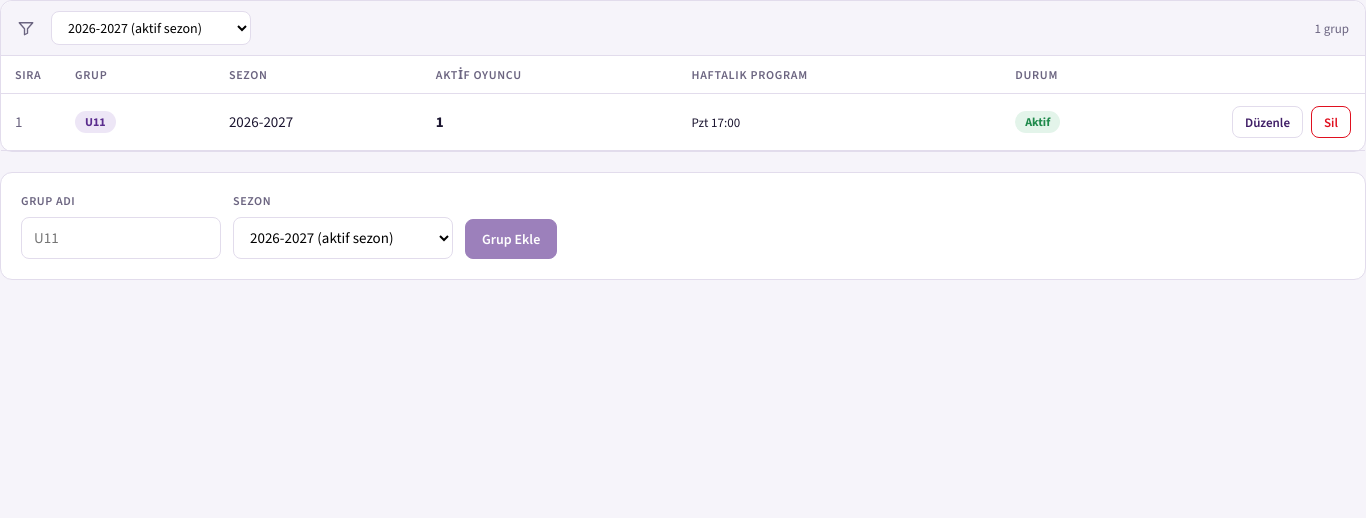
Test: Yaş Grupları ekranı › program editörü (plan §37): başlangıç/bitiş/saha, süre gösterimi, hatalı bitişte Kaydet kapalı; kayıtta bitiş gider, listede aralık
expect the text "Pzt 17:00" is shown: met, box [678, 94, 1001, 150]
Step 1. Click the button "Düzenle" → x=1268, y=122, box [1232, 106, 1303, 138]
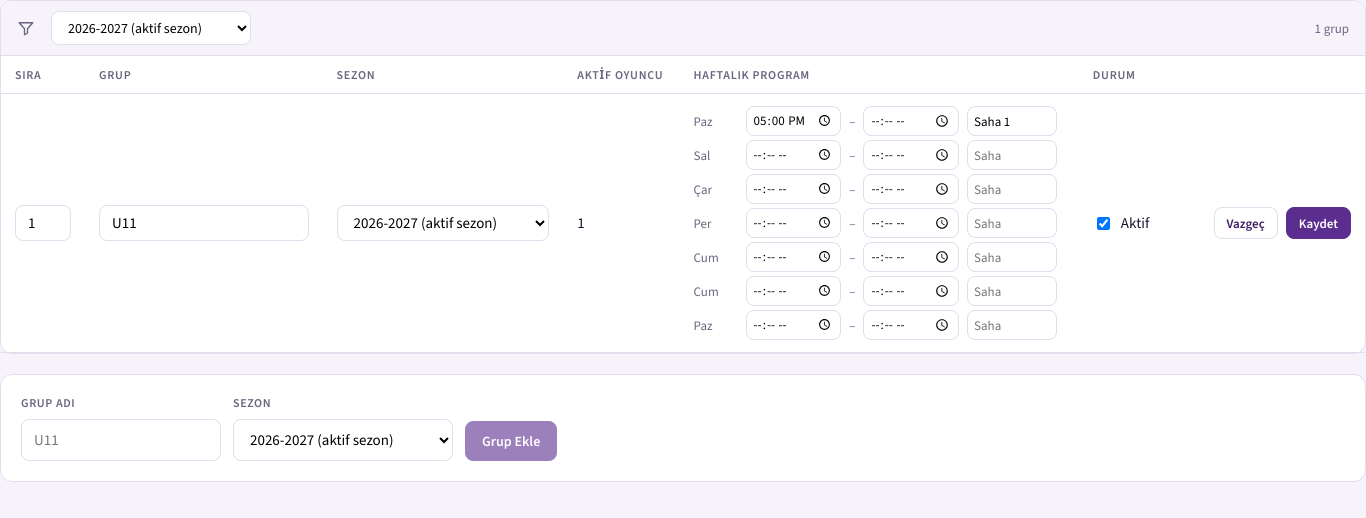
expect the time field named "Pazartesi saati" holds "17:00": met, box [746, 106, 841, 136]
Step 2. Type "16:00" into the time field named "Pazartesi bitişi" → x=911, y=121, box [864, 106, 959, 136]
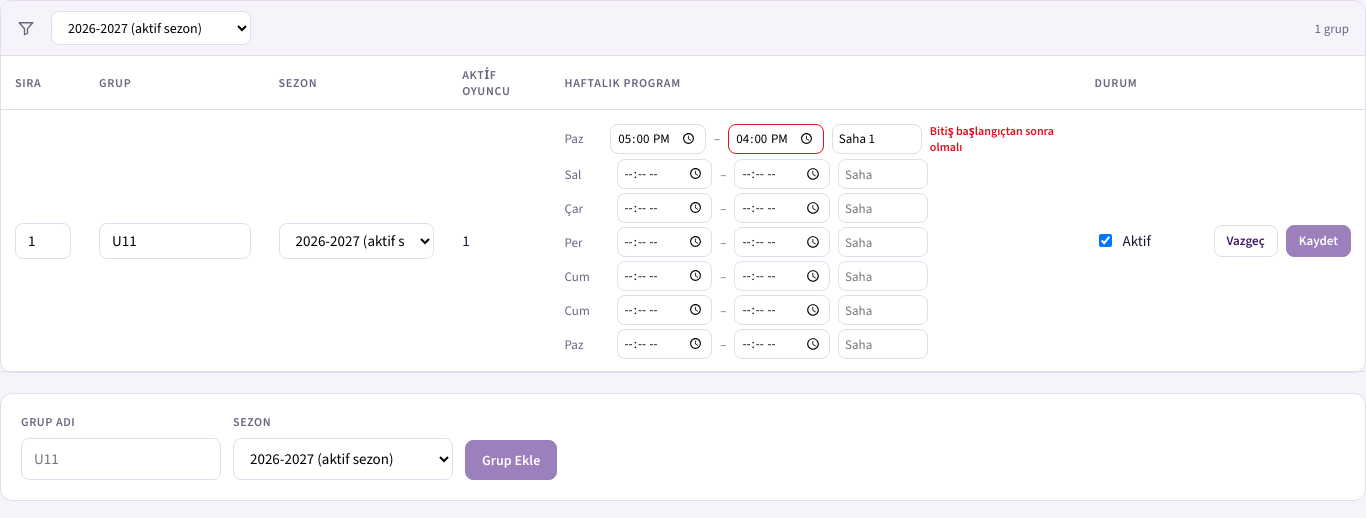
expect the message reads "Bitiş başlangıçtan sonra olmalı": met, box [930, 123, 1054, 155]
expect the button "Kaydet" is disabled: met, box [1286, 224, 1351, 256]
Step 3. Replace the text in the time field named "Pazartesi bitişi" with "18:30" → x=776, y=138, box [728, 124, 824, 154]
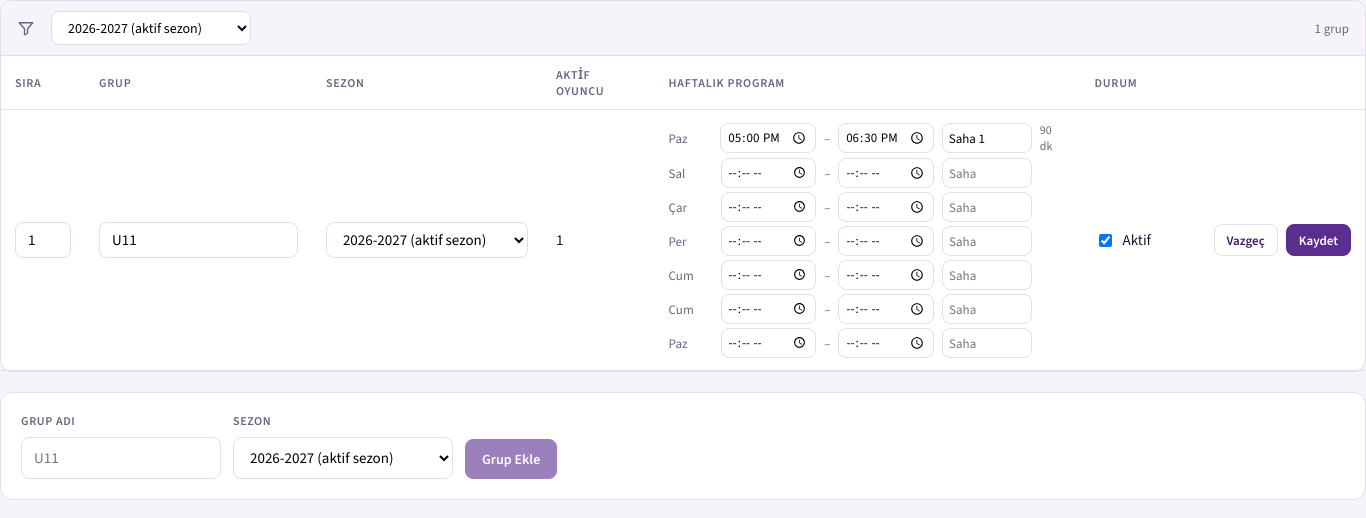
expect the text "90 dk" is shown: met, box [1040, 122, 1052, 154]
Step 4. Type "18:00" into the time field named "Çarşamba saati" → x=768, y=207, box [721, 192, 816, 222]
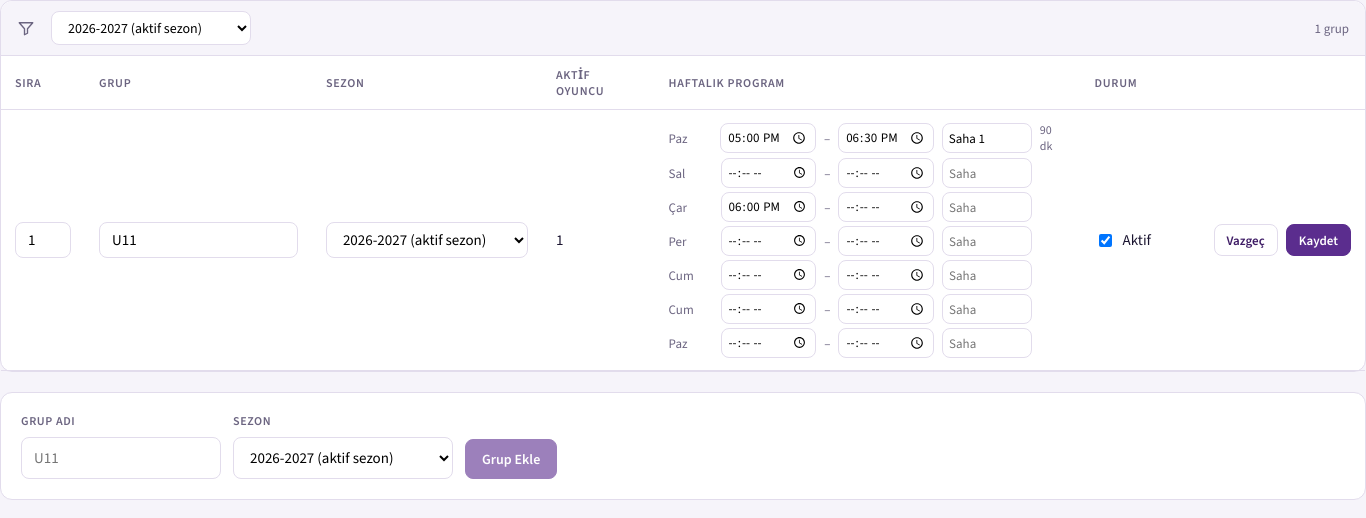
Step 5. Click the button "Kaydet" → x=1318, y=240, box [1286, 224, 1351, 256]
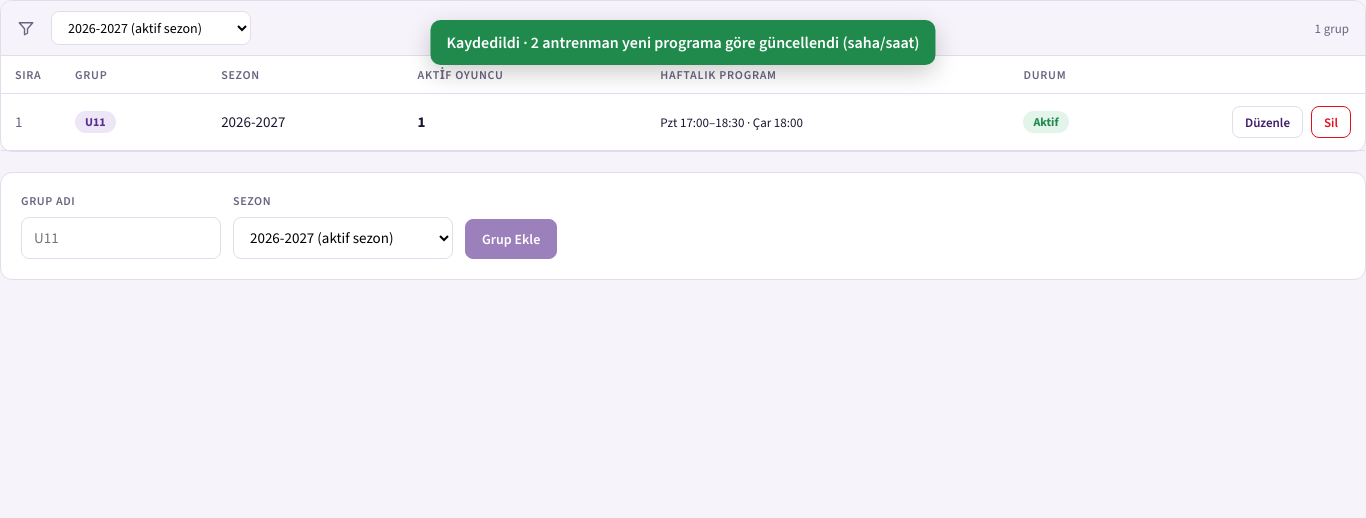
expect the text "Kaydedildi · 2 antrenman yeni programa göre güncellendi (saha/saat)" is shown: met, box [430, 20, 936, 65]
expect the text "Pzt 17:00–18:30 · Çar 18:00" is shown: met, box [646, 94, 1010, 150]
